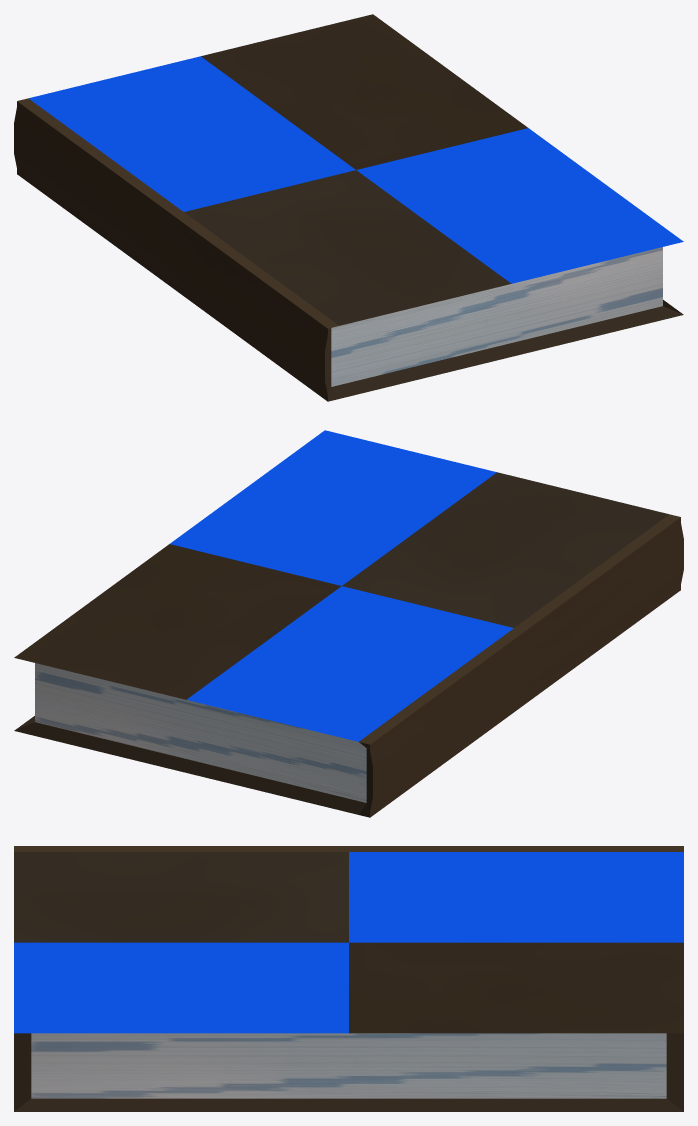
File: book5.obj
3 views of the same model, one above another, from view 1: azimuth 30°, elevation 25°; view 2: azimuth 150°, elevation 25°; view 3: azimuth 270°, elevation 25° (orthographic). The views are drawn at different scales.
Parts seen in each view (by area): view 1: Cube.007; view 2: Cube.007; view 3: Cube.007.
Boxes of the visible parts, <box> form: Cube.007: <box>14,14,683,401</box>; Cube.007: <box>14,430,683,817</box>; Cube.007: <box>14,846,683,1111</box>.
Bounding box in the file's own units: 0.18 × 0.035 × 0.27.
